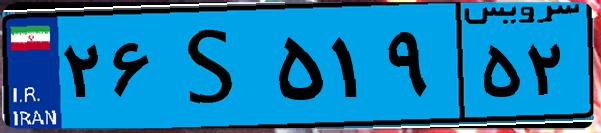1: (330, 28, 385, 110)
2: (57, 26, 110, 100), (525, 38, 570, 115)
5: (270, 28, 330, 110), (475, 38, 525, 113)
6: (110, 28, 158, 98)
9: (385, 28, 445, 110)
S: (158, 12, 270, 120)
